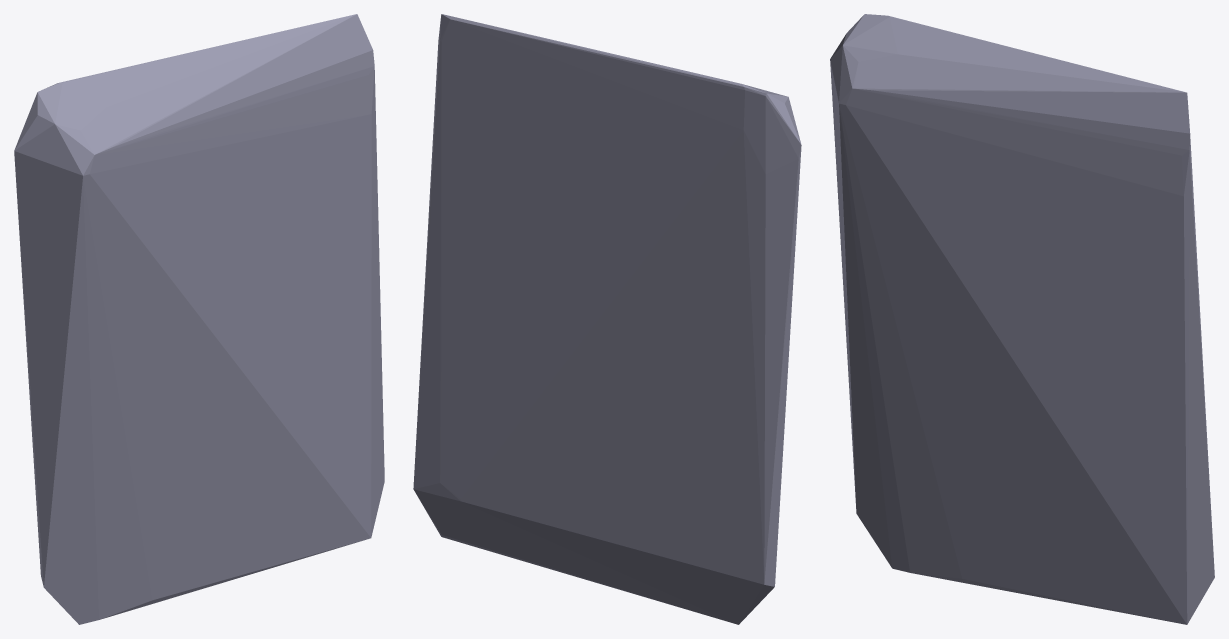
File: paper_stack_a05.glb
The picture shows the model from 3 angles, left to right: view 1: azimuth 30°, elevation 25°; view 2: azimuth 150°, elevation 25°; view 3: azimuth 330°, elevation 25°; orthographic projection.
Parts seen in each view (by area): view 1: geometry_0; view 2: geometry_0; view 3: geometry_0.
Part boxes in pixels (left/top/right/bottom): geometry_0: left=14, top=14, right=384, bottom=624; geometry_0: left=413, top=14, right=801, bottom=624; geometry_0: left=830, top=14, right=1214, bottom=624.
Size of the model in its own units: 0.35 by 0.4799 by 0.0607.
